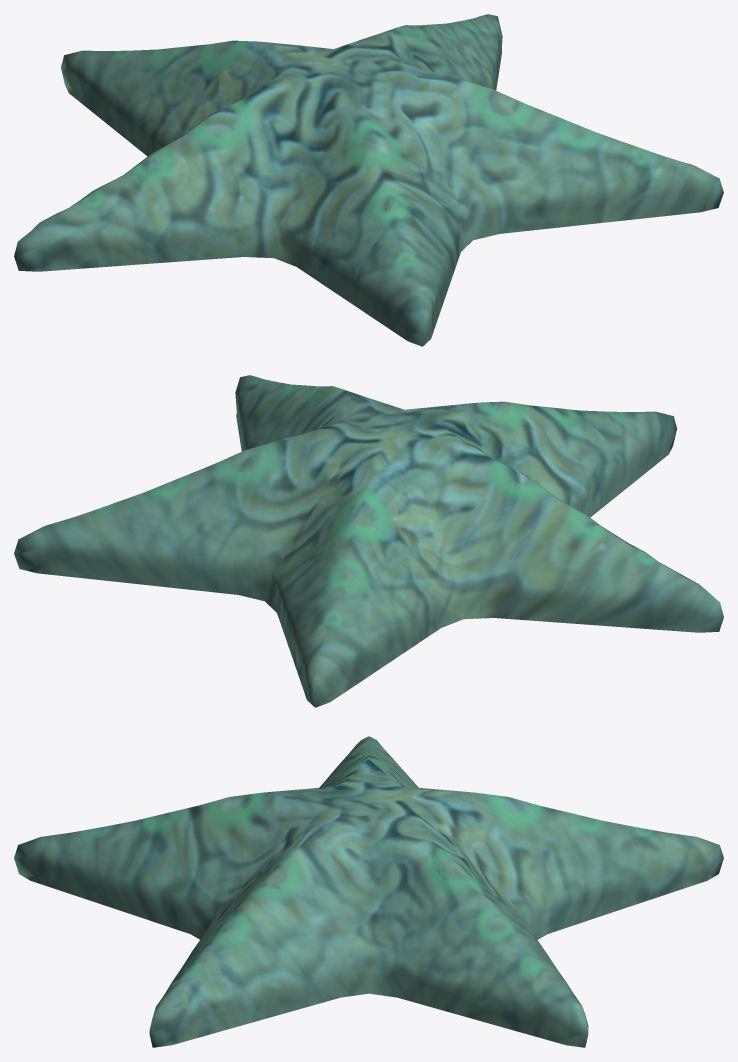
The model's file is starfish_textured.FBX.
3 renders of one model, top to bottom at view 1: azimuth 30°, elevation 25°; view 2: azimuth 150°, elevation 25°; view 3: azimuth 270°, elevation 25°, orthographic. The views are drawn at different scales.
Parts seen in each view (by area): view 1: star_00; view 2: star_00; view 3: star_00.
Part boxes in pixels (box(x1,y1,x2,y2)): star_00: box(14, 14, 723, 346); star_00: box(14, 375, 723, 707); star_00: box(14, 736, 723, 1047).
Size of the model in its own units: 53.55 by 10.58 by 56.3.
